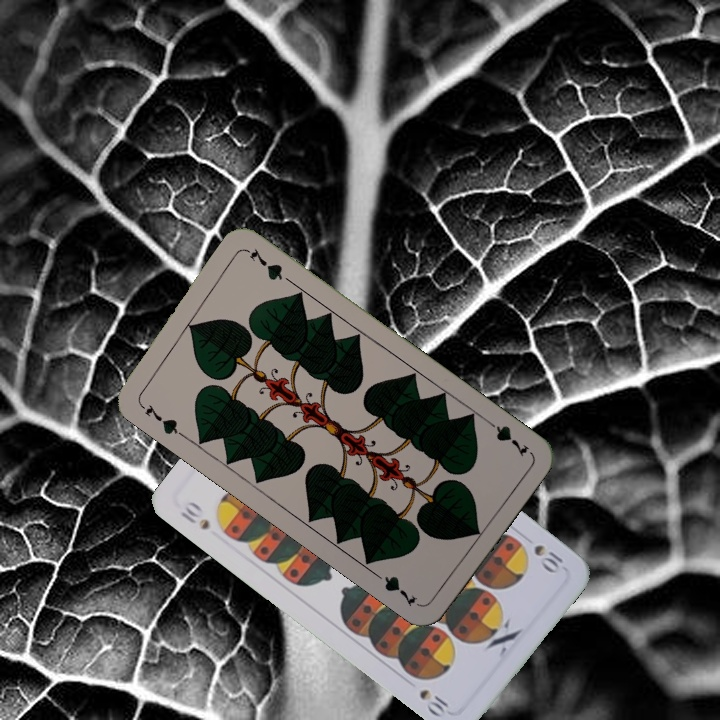G7: (481, 414, 532, 459), (135, 397, 186, 439)
S10: (529, 540, 566, 577), (176, 497, 212, 533)
